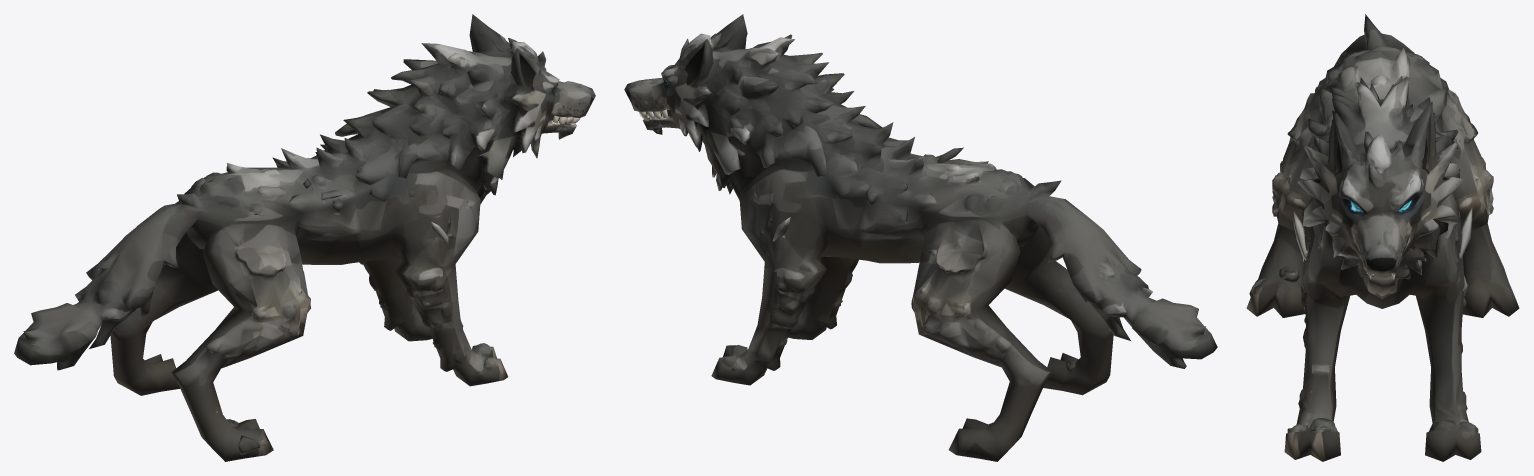
File: wolf.glb
3 views of the same model, side by side, from view 1: azimuth 30°, elevation 25°; view 2: azimuth 150°, elevation 25°; view 3: azimuth 270°, elevation 25° (orthographic). The views are drawn at different scales.
Parts seen in each view (by area): view 1: tripo_node_c4e4d786-011c-456f-bb07-c1ac19998f3d; view 2: tripo_node_c4e4d786-011c-456f-bb07-c1ac19998f3d; view 3: tripo_node_c4e4d786-011c-456f-bb07-c1ac19998f3d.
Boxes of the visible parts, x1,y1,x2,y2 form: tripo_node_c4e4d786-011c-456f-bb07-c1ac19998f3d: (14,14,595,461); tripo_node_c4e4d786-011c-456f-bb07-c1ac19998f3d: (624,14,1217,461); tripo_node_c4e4d786-011c-456f-bb07-c1ac19998f3d: (1246,14,1519,461).
Size of the model in its own units: 0.998 by 0.5215 by 0.3496.
1 material, 1 textured.
